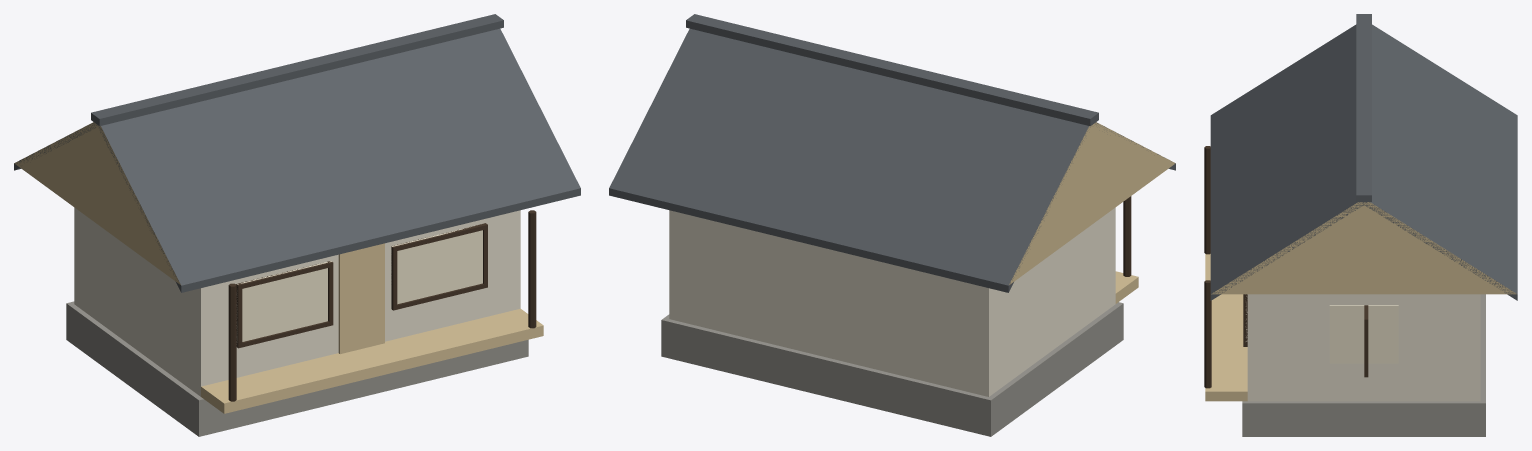
The model's file is ie_kawara.glb.
3 renders of one model, left to right at view 1: azimuth 30°, elevation 25°; view 2: azimuth 150°, elevation 25°; view 3: azimuth 270°, elevation 25°, orthographic. The views are drawn at different scales.
Parts seen in each view (by area): view 1: ie_kawara; view 2: ie_kawara; view 3: ie_kawara.
Part boxes in pixels (bbox=[...]): ie_kawara: bbox=[14, 14, 580, 436]; ie_kawara: bbox=[609, 14, 1175, 436]; ie_kawara: bbox=[1204, 14, 1517, 436].
Bounding box in the file's own units: 8.1 × 5.39 × 5.92.
